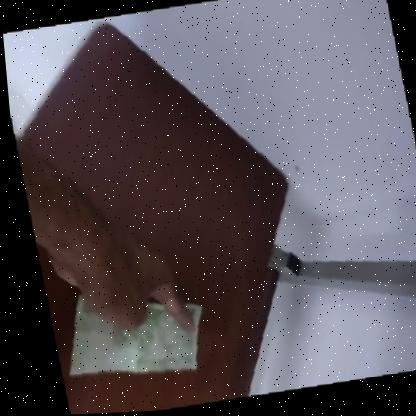fifty-back-vef: (50, 279, 205, 382)
